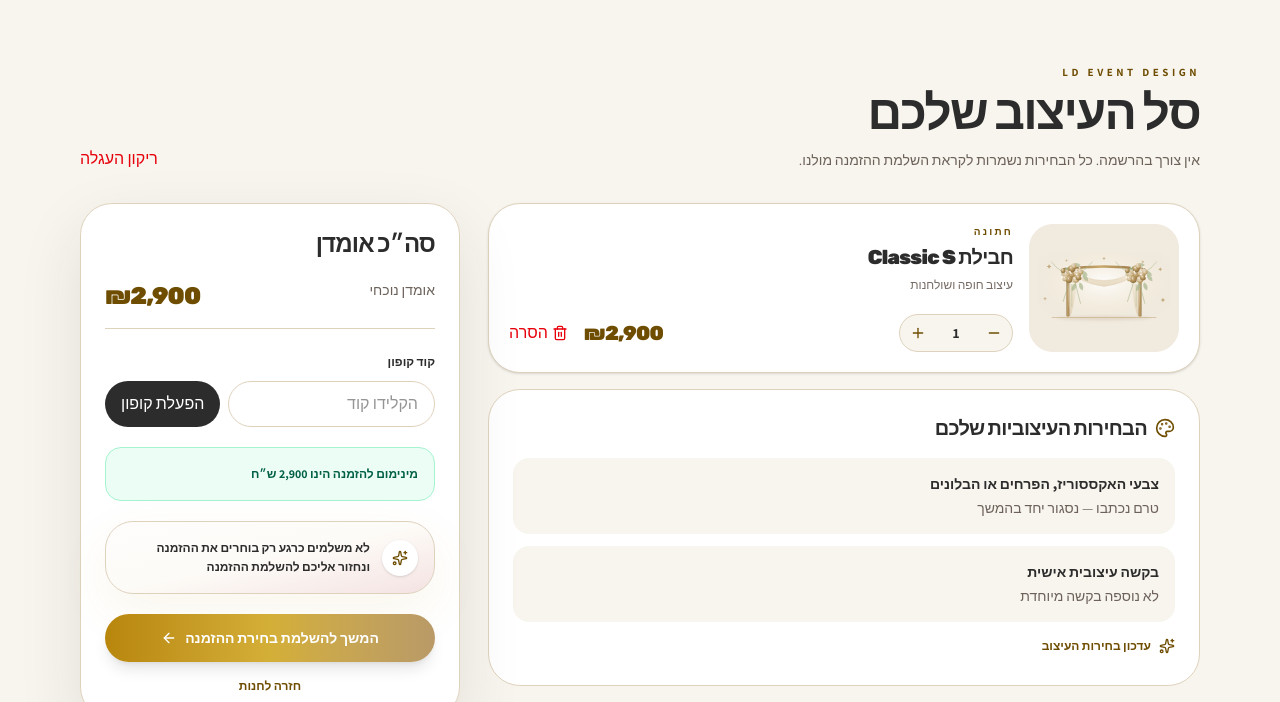
Test: CartPage › shows a generic rejection and accepts only a server-approved coupon
Step 1. Type "לא תקין" into the field labelled "קוד קופון" → (332, 404), box [228,381,435,427]
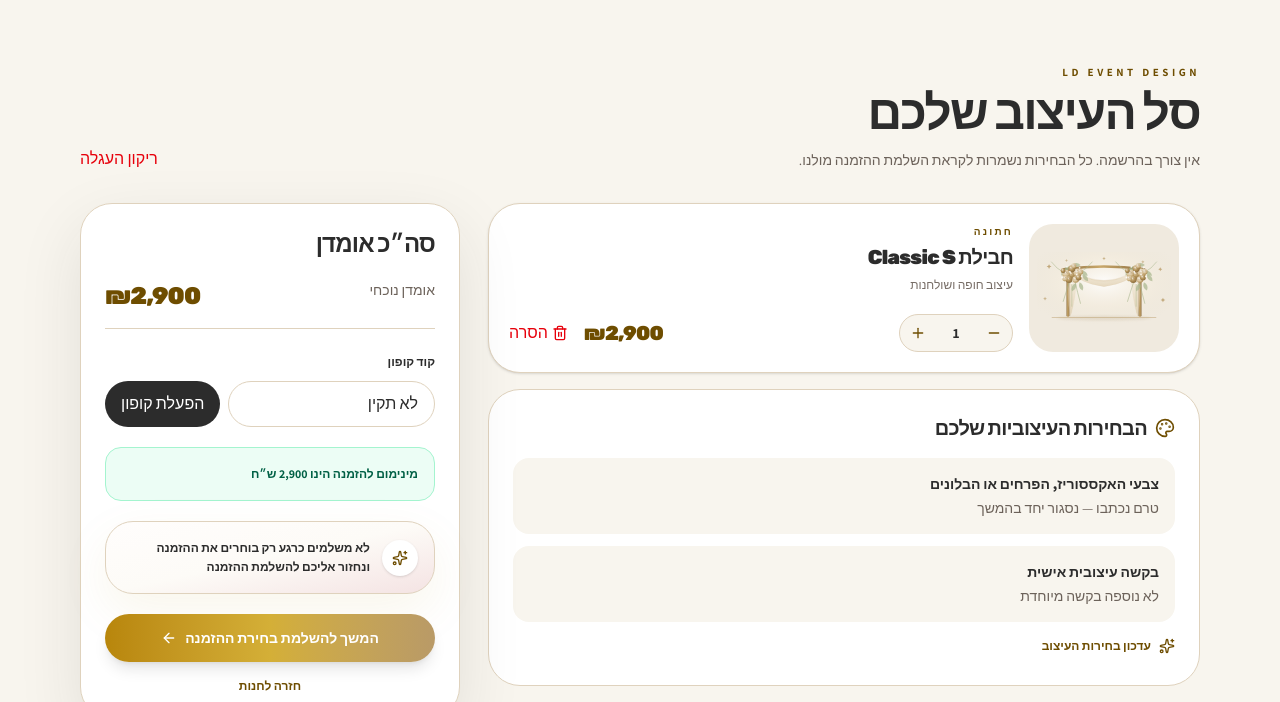
Step 2. Click the button "הפעלת קופון" → (163, 404), box [105,381,220,427]
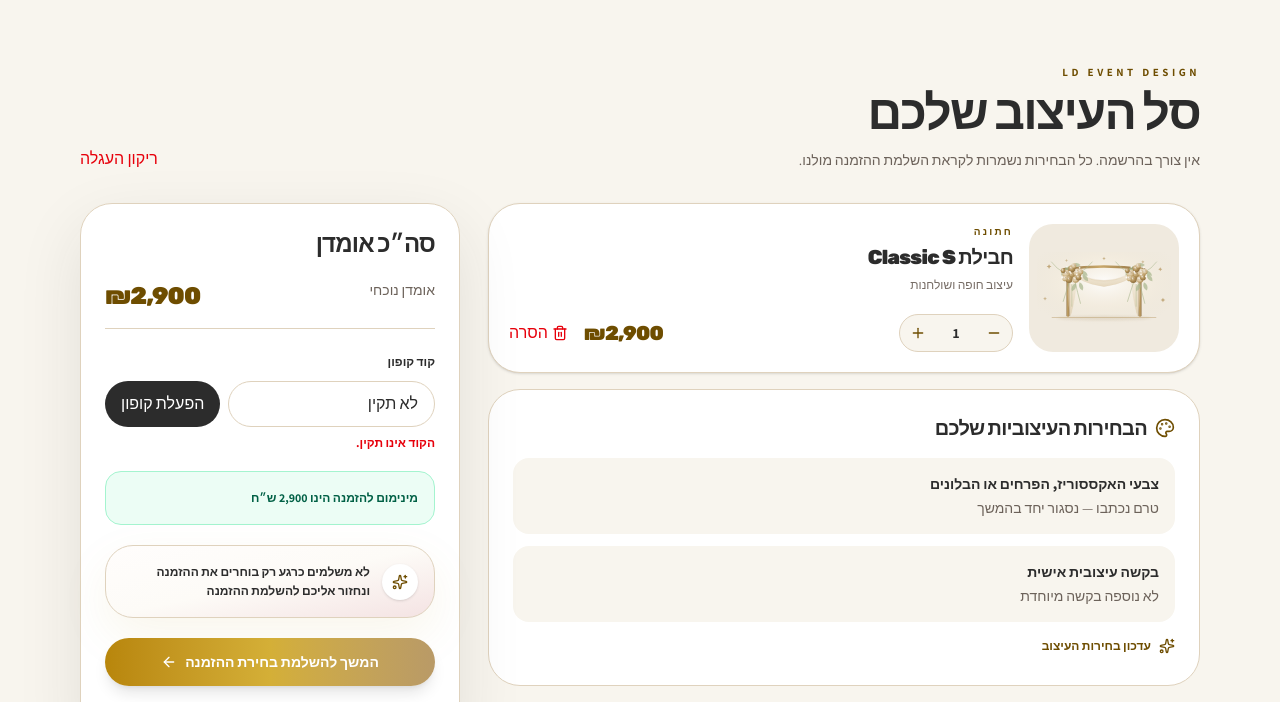
Expected: the message shows "אינו תקין", [356,435,435,450]
Step 3. Replace the text in the field labelled "קוד קופון" with "server-approved-code" → (332, 404), box [228,381,435,427]
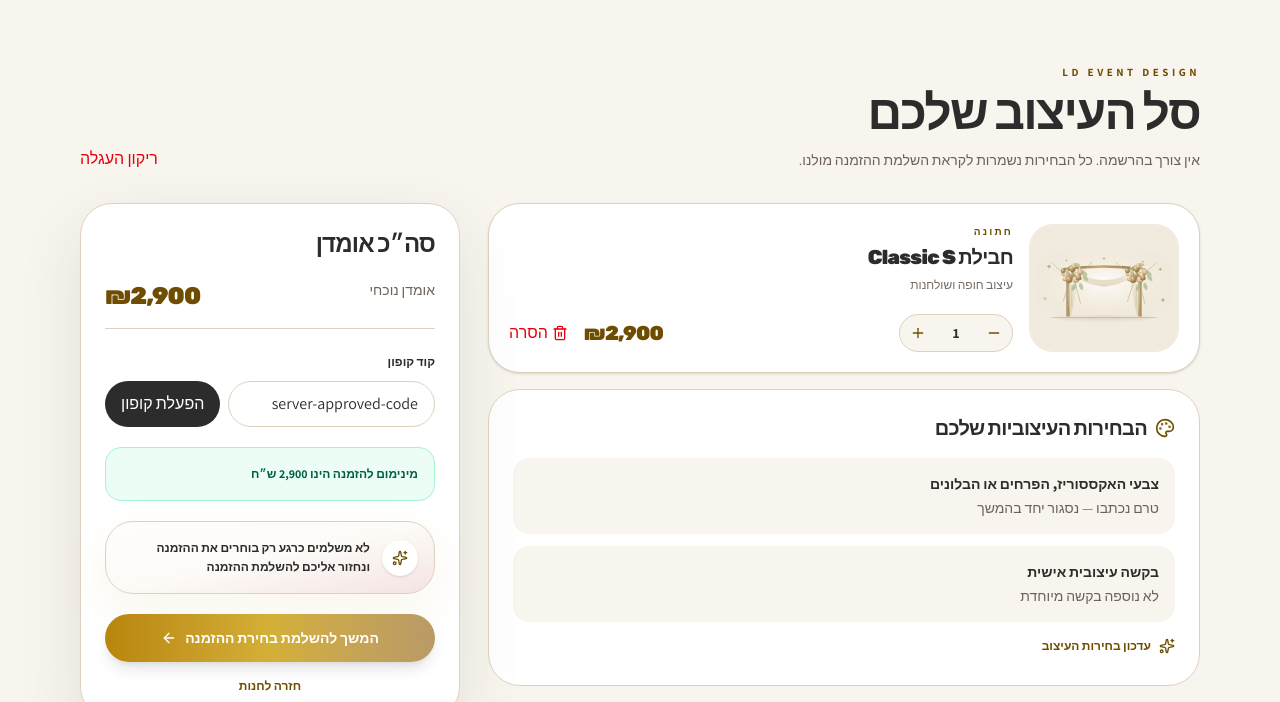
Step 4. Click the button "הפעלת קופון" → (163, 404), box [105,381,220,427]
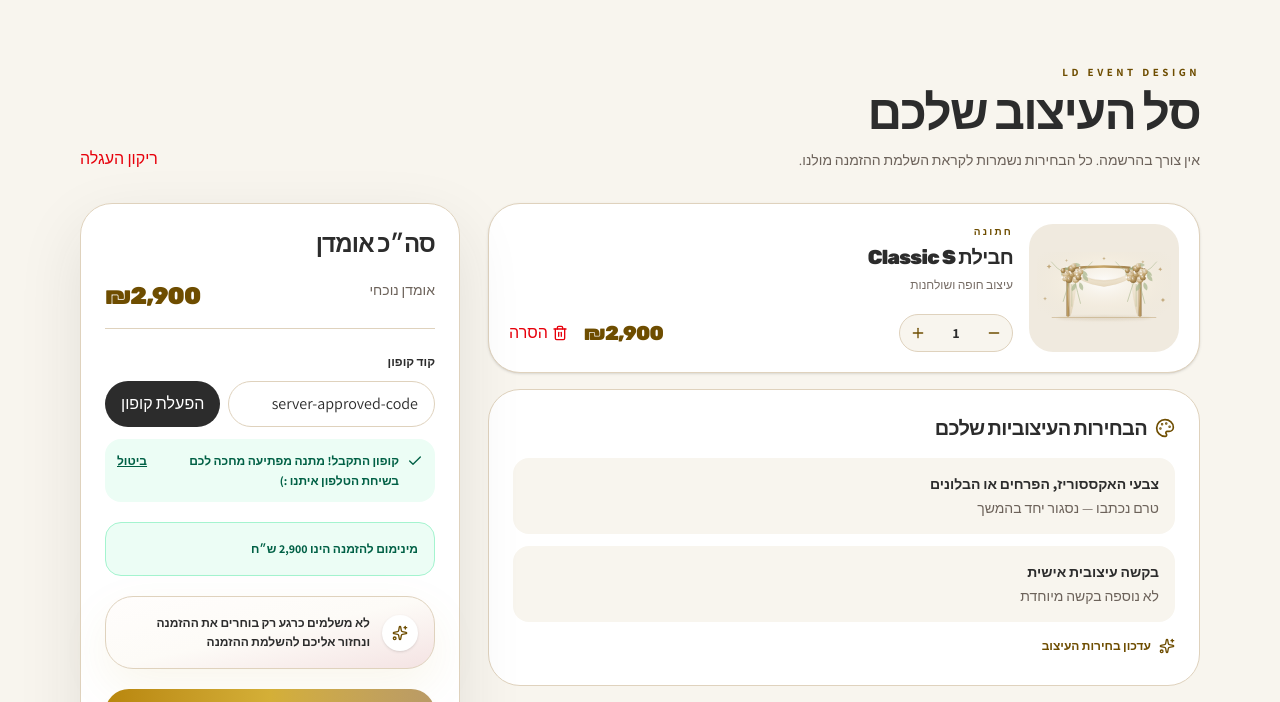
Expected: the message shows "מתנה מפתיעה", [189,453,399,488]
Step 5. Click the button "ביטול" → (132, 461), box [117,451,147,471]
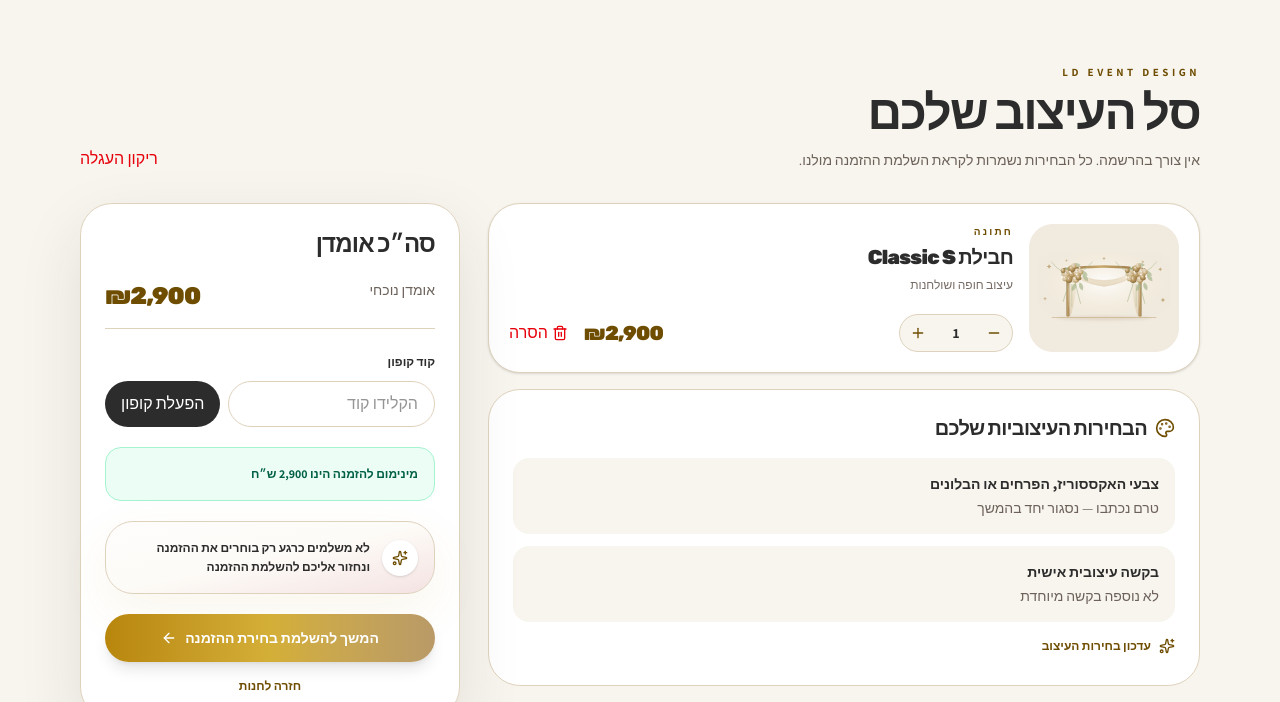
Expected: the message "קופון התקבל! מתנה מפתיעה מחכה לכם בשיחת הטלפון איתנו :) ביטול" is gone
Expected: the field labelled "קוד קופון" is empty, [228,381,435,427]
